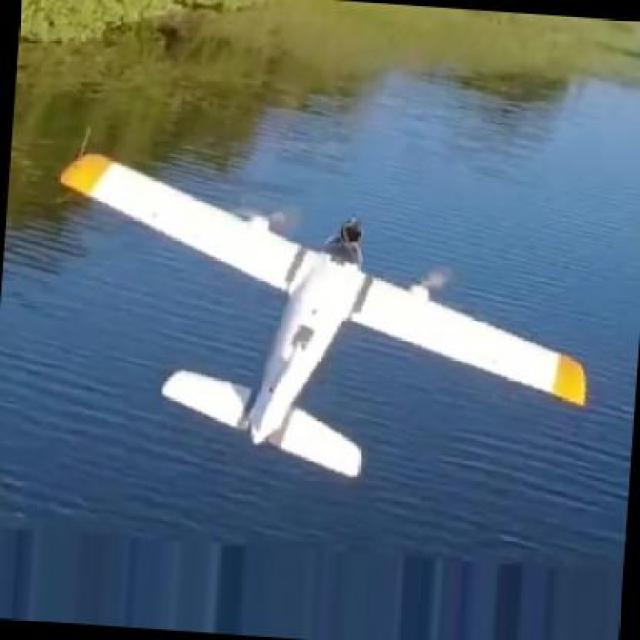iha: (39, 134, 639, 517)
